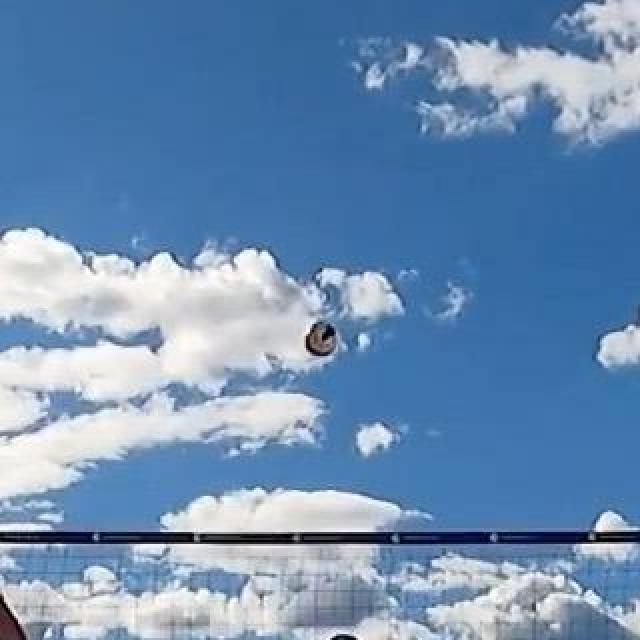volleyball: (306, 324, 338, 360)
